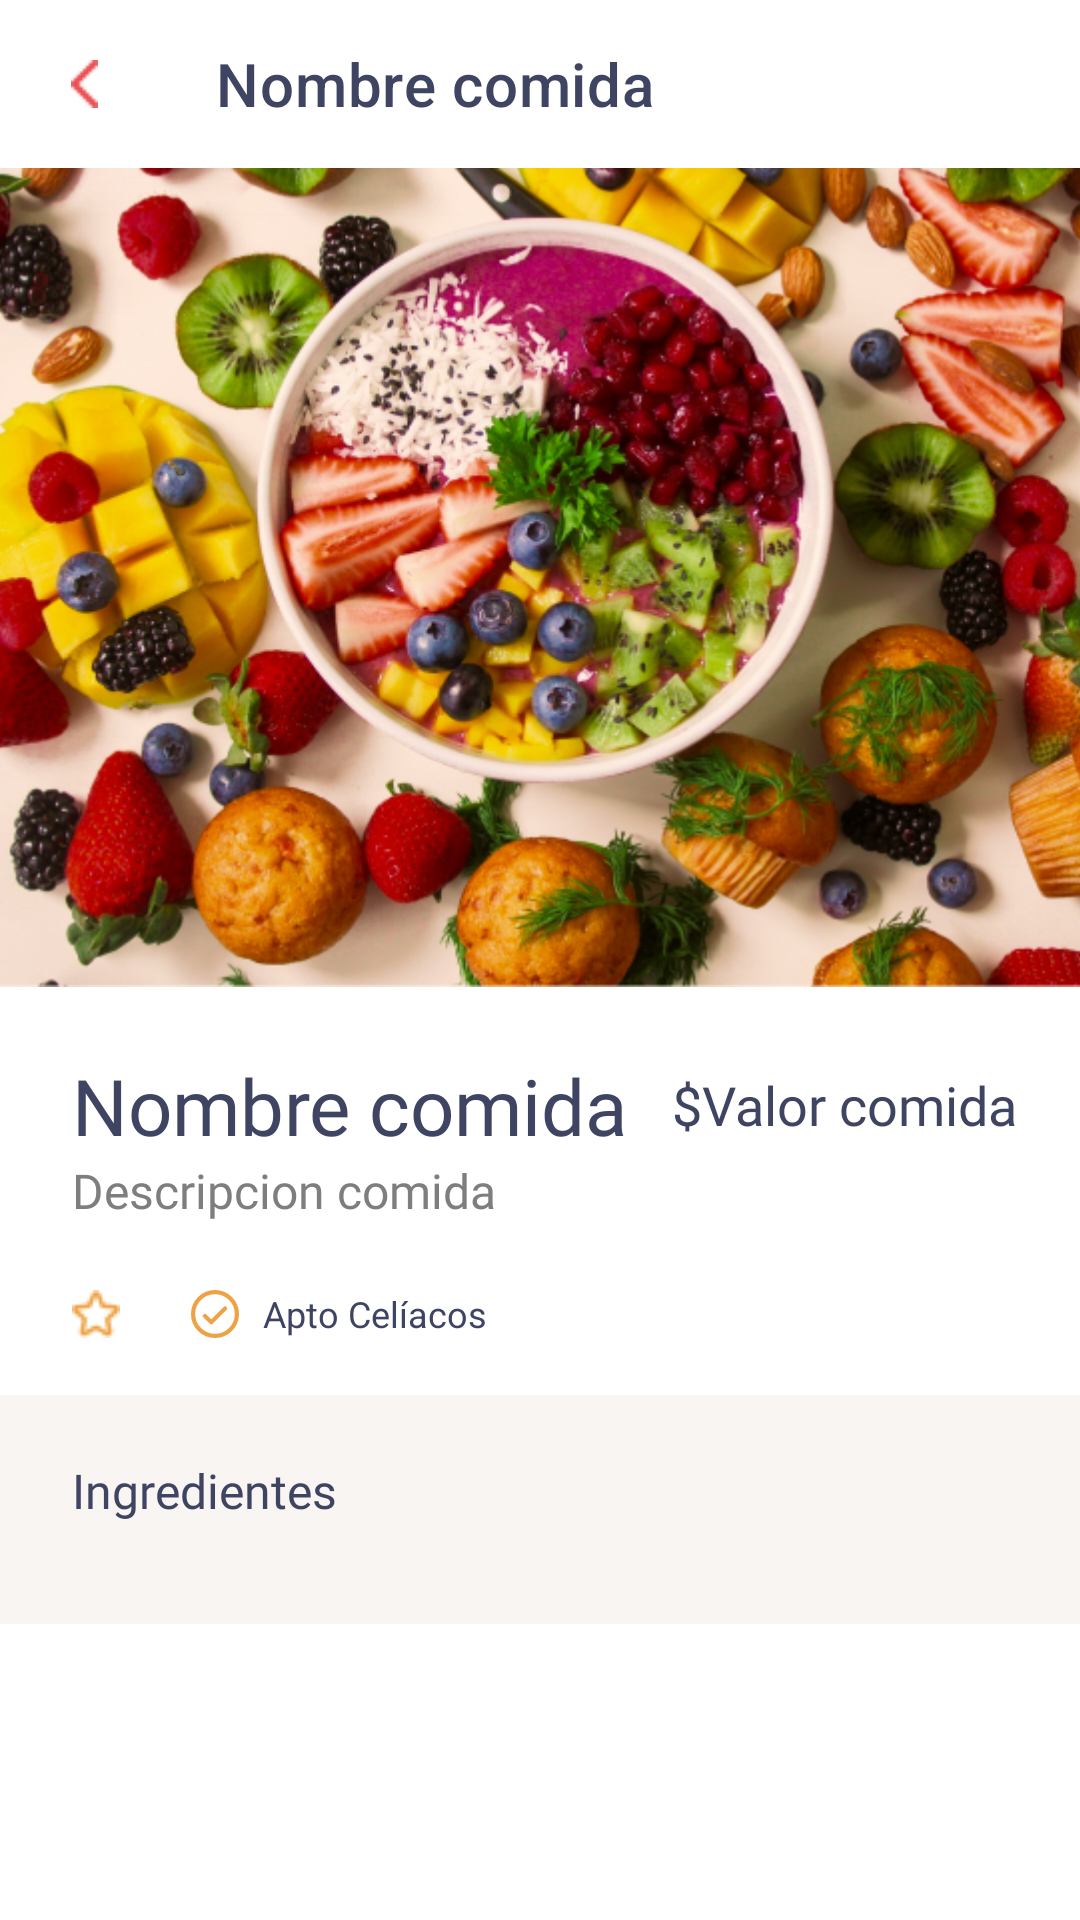

Where icons sit on this 1080w x 1920h app screen, as (x1, y1, x2, y2):
estrella: (72, 1290, 120, 1338)
